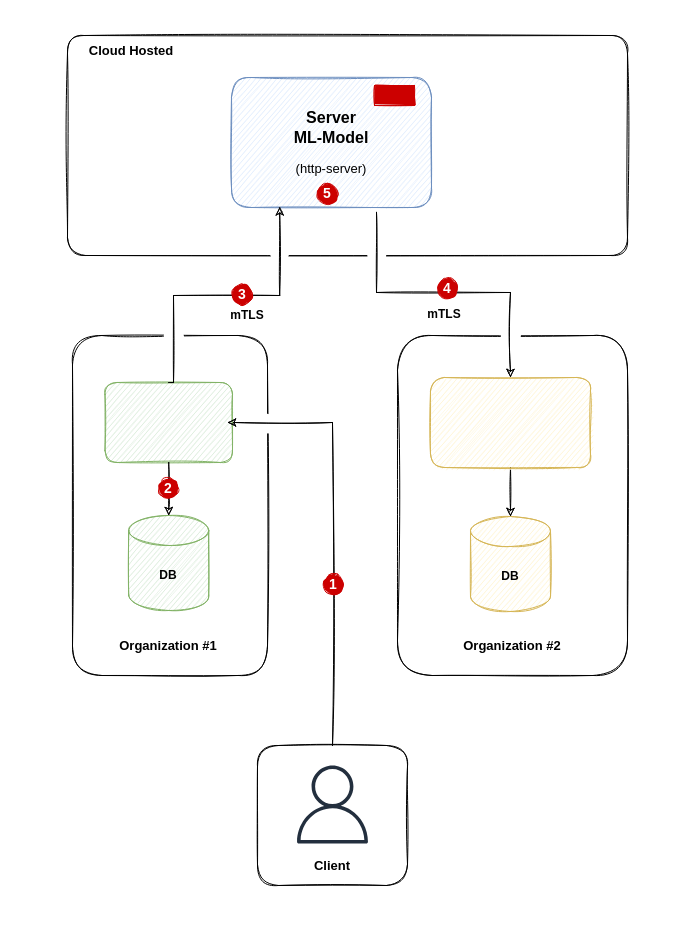
This 694x932 diagram has some shape labels left out. Here are the shapes that lost their labels. From the top down, the centre of each, then its label:
point (394, 95): SGX
point (168, 422): http-client
point (510, 422): Server Data (http-server)
